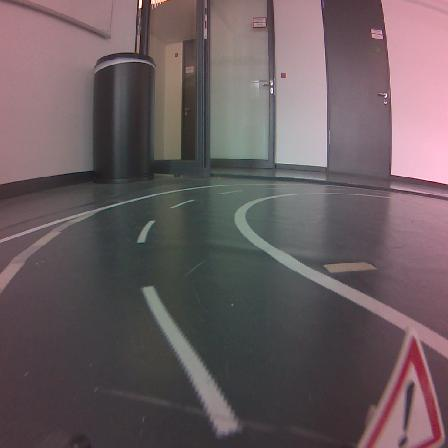ATTENTION: (357, 330, 444, 447)
